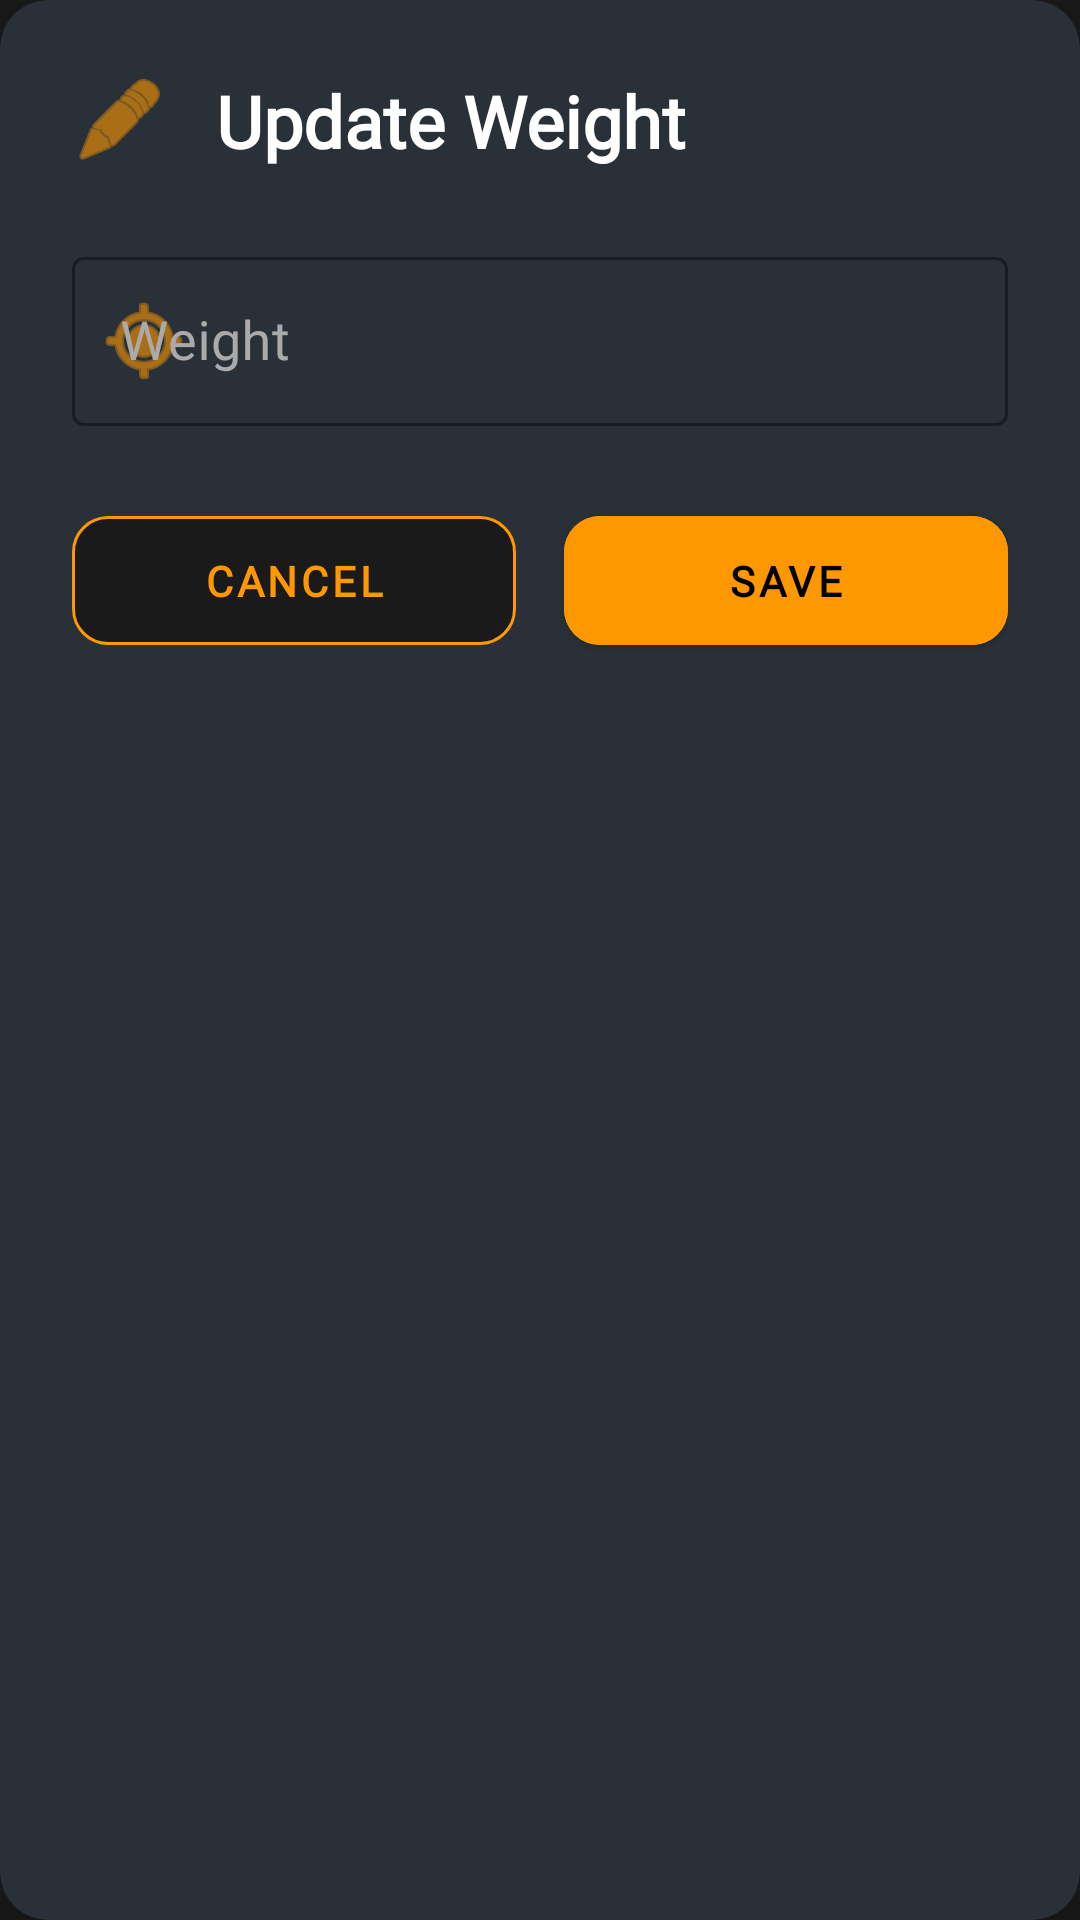

Icons on this 1080w x 1920h Android screen, each with the point to tap as (x,y):
edit: (119,119)
